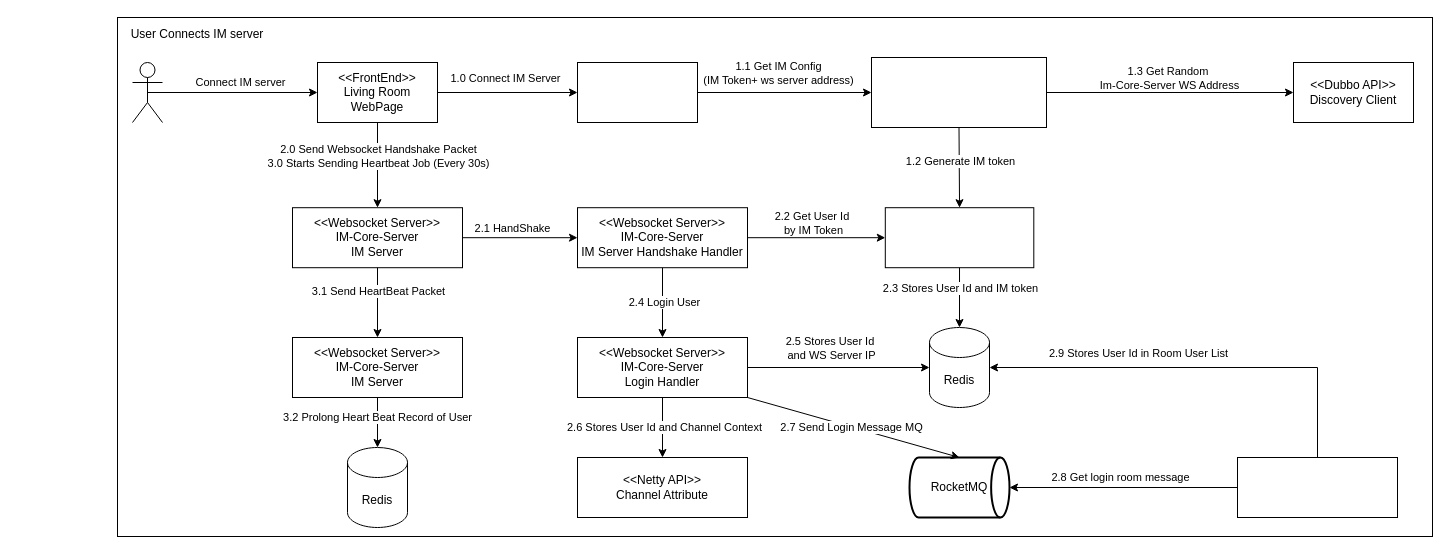
Some shapes in this 1450 by 554 pixel diagram are drawn without their labels. The shapes that lost their labels are listed below. From the top down, each one's box as (x1, y1, x2, y2) in pixels, then its label:
(132, 62, 162, 122): User
(576, 62, 698, 122): <<Gateway>> live-api-gateway API Gateway
(870, 56, 1046, 128): <<Controller>> live-api-controller IM Controller
(884, 207, 1034, 268): <<RPC Provider>> live-im-core-server IM Token RPC
(1236, 456, 1398, 518): <<RocketMQ Consumer>> live-stream-room-provider Login Room Consumer
